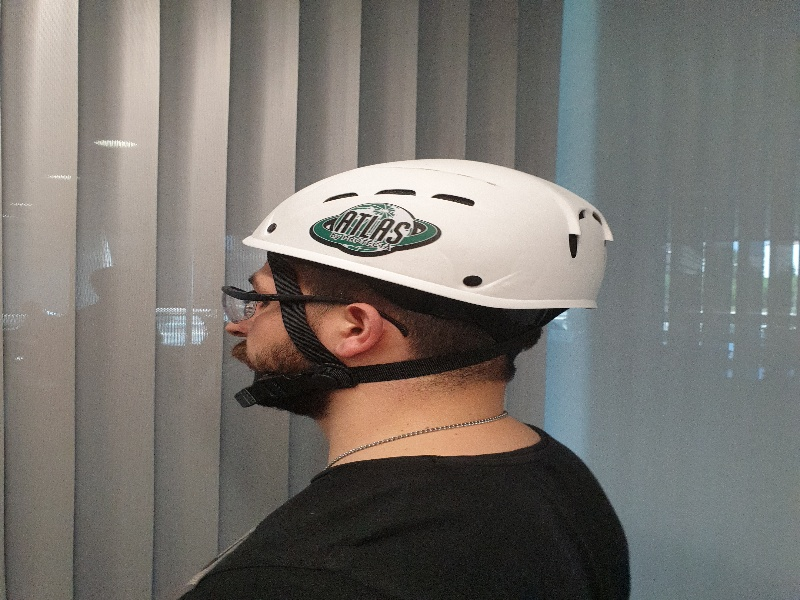Baret: (242, 156, 611, 308)
Gozluk: (221, 284, 380, 320)
